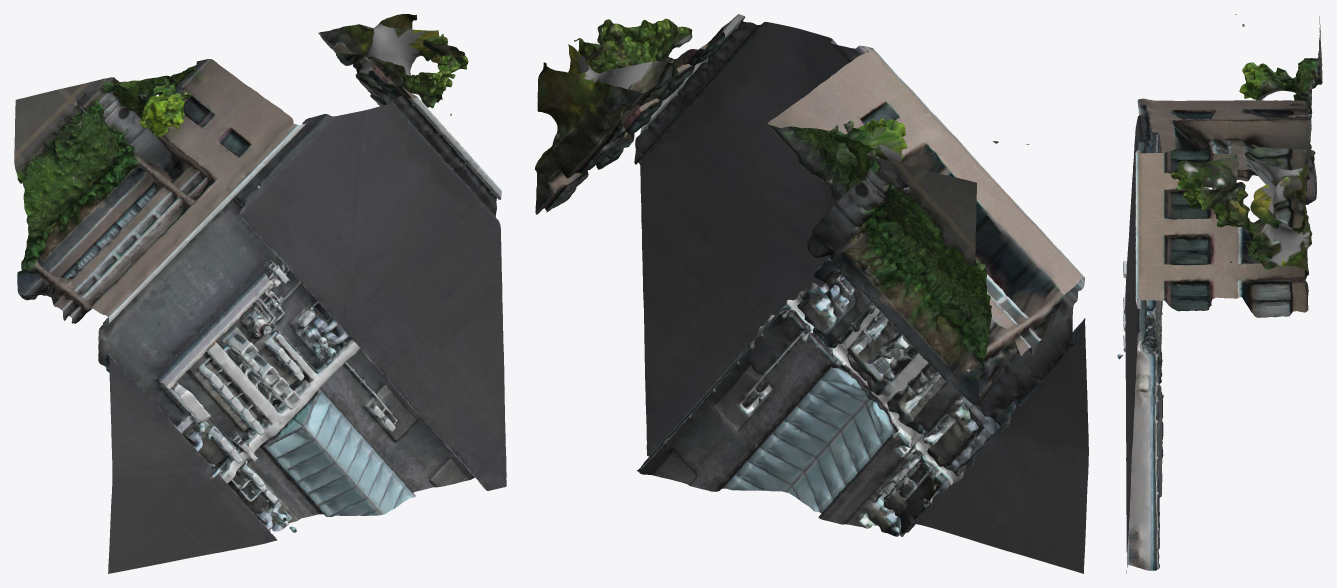
Rendered from Tile_+008_+013.fbx.
The picture shows the model from 3 angles, left to right: view 1: azimuth 30°, elevation 25°; view 2: azimuth 150°, elevation 25°; view 3: azimuth 270°, elevation 25°; orthographic projection. The views are drawn at different scales.
Parts seen in each view (by area): view 1: DefaultName; view 2: DefaultName; view 3: DefaultName.
Boxes of the visible parts, <box> form: DefaultName: <box>14,14,506,573</box>; DefaultName: <box>535,14,1088,573</box>; DefaultName: <box>1117,14,1322,573</box>.
Size of the model in its own units: 22.54 by 22.54 by 10.97.
